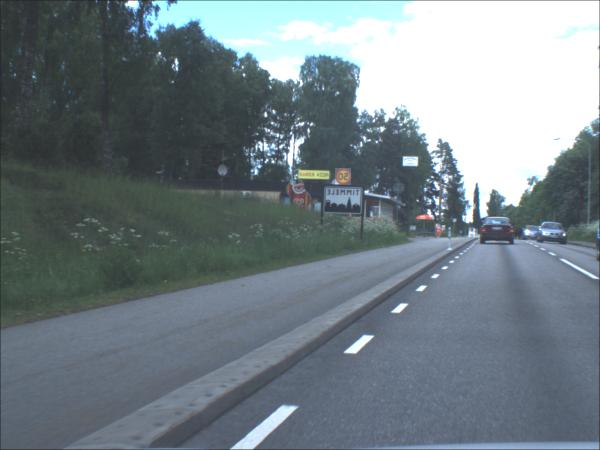50_SIGN: (335, 169, 352, 187)
